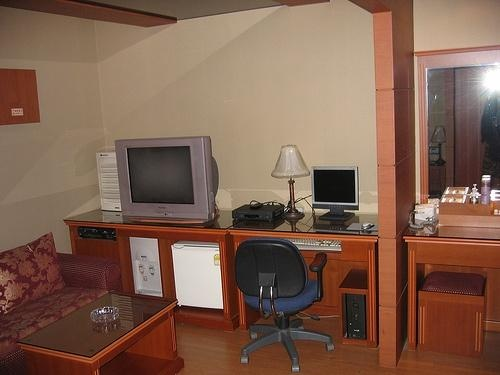chair: (240, 239, 335, 374)
sofa: (1, 232, 125, 375)
tvmonitor: (113, 136, 219, 226), (311, 167, 361, 221)
